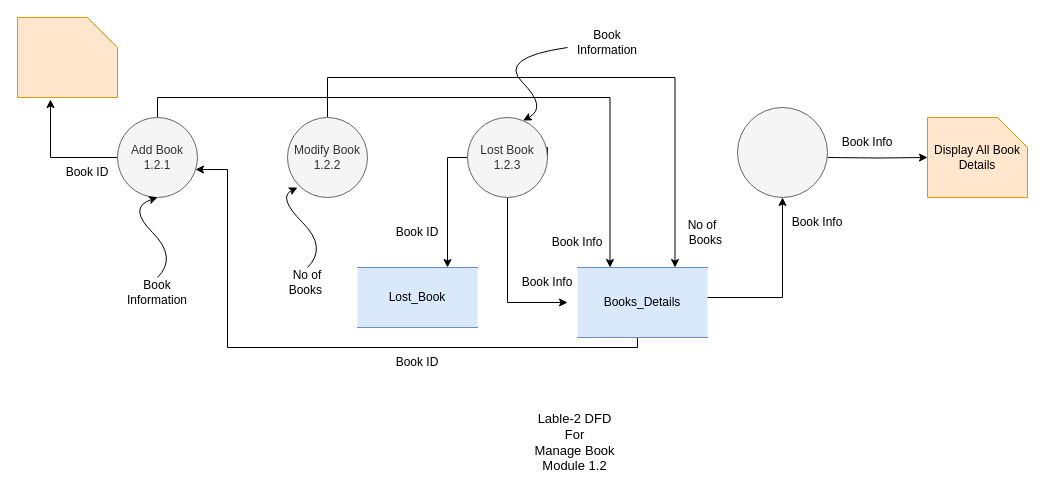
Some shapes in this 1045 by 491 pixel diagram are drawn without their labels. Here are the shapes that lost their labels. From the top down, the box of each, then its label:
(16, 16, 118, 98): Generate Book Id
(736, 106, 828, 198): Show All Book Details 1.2.4
